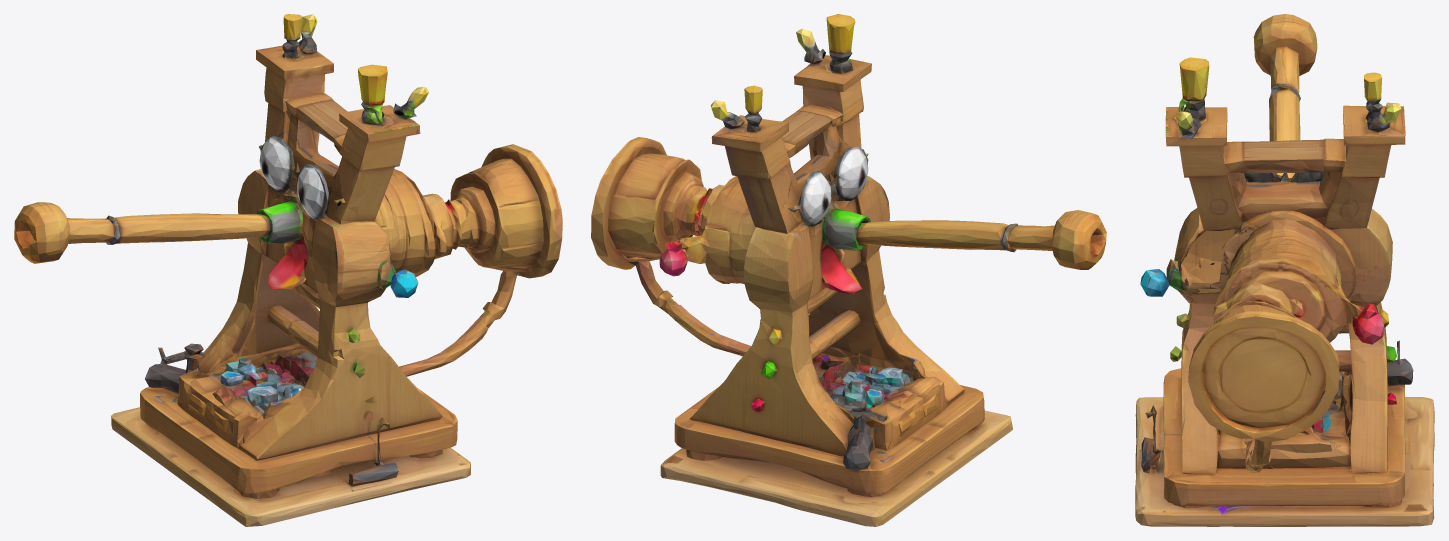
The model's file is balista_cartoonlike_c_0420131400_texture.fbx.
3 views of the same model, side by side, from view 1: azimuth 30°, elevation 25°; view 2: azimuth 150°, elevation 25°; view 3: azimuth 270°, elevation 25° (orthographic). The views are drawn at different scales.
Visible parts, largest first — view 1: temp; view 2: temp; view 3: temp.
Part boxes in pixels (left/top/right/bottom): temp: left=14, top=14, right=562, bottom=526; temp: left=591, top=14, right=1106, bottom=526; temp: left=1135, top=14, right=1434, bottom=526.
Bounding box in the file's own units: 200 × 156 × 99.59.
Materials: 1 (1 with a texture image).
